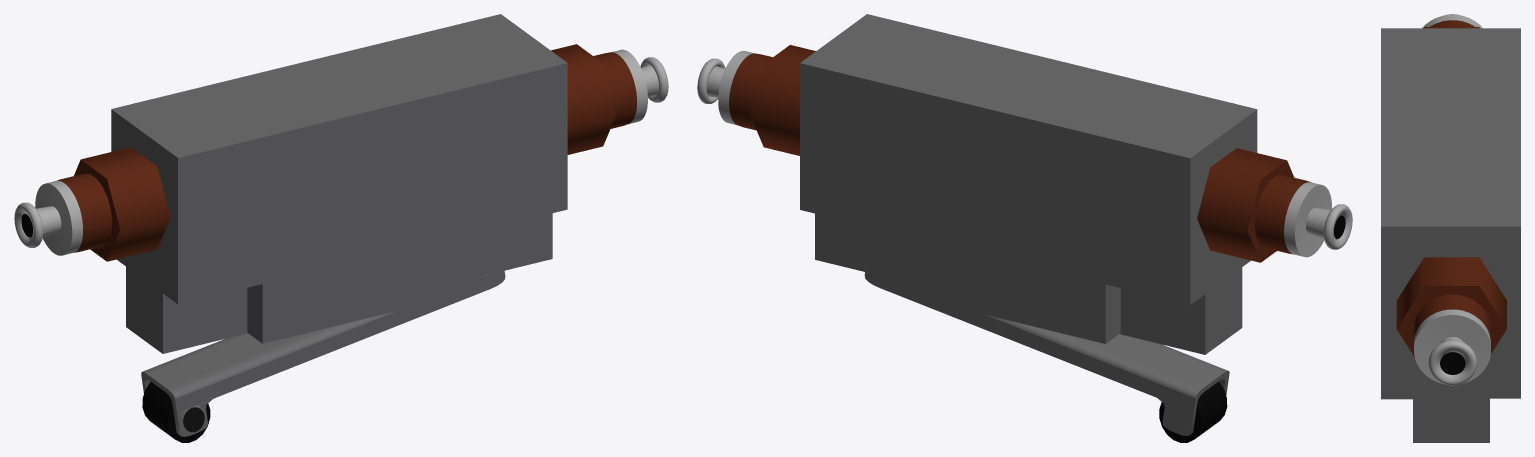
Rendered from tocitko.FBX.
3 views of the same model, side by side, from view 1: azimuth 30°, elevation 25°; view 2: azimuth 150°, elevation 25°; view 3: azimuth 270°, elevation 25° (orthographic). The views are drawn at different scales.
Visible parts, largest first — view 1: Box001, Box002; view 2: Box001, Box002; view 3: Box001.
Boxes of the visible parts, bbox=[...] form: Box001: bbox=[14, 14, 668, 353]; Box002: bbox=[141, 270, 505, 442]; Box001: bbox=[697, 14, 1352, 354]; Box002: bbox=[864, 272, 1229, 442]; Box001: bbox=[1381, 14, 1520, 442].
Bounding box in the file's own units: 7.36 × 3.41 × 1.35.
